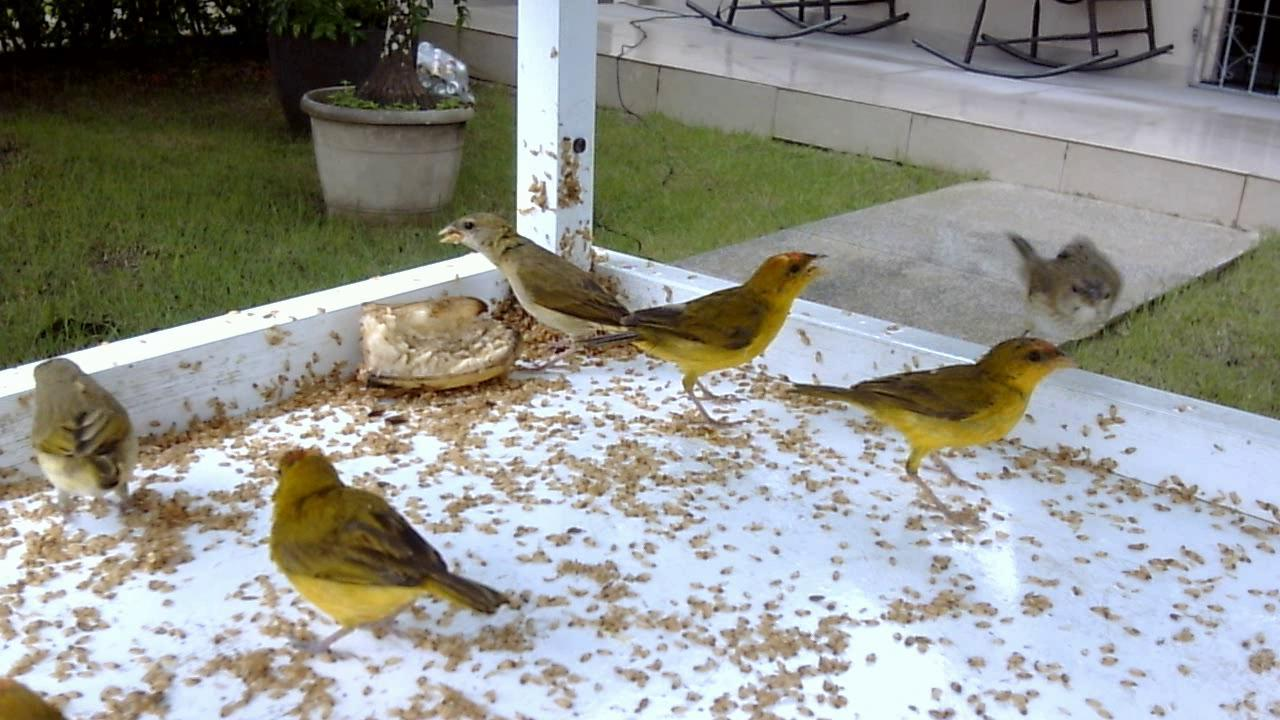canario_do_amazonas: (766, 324, 1071, 515), (260, 441, 509, 668), (594, 241, 837, 437), (444, 211, 647, 381), (17, 348, 149, 530), (988, 225, 1131, 360)
